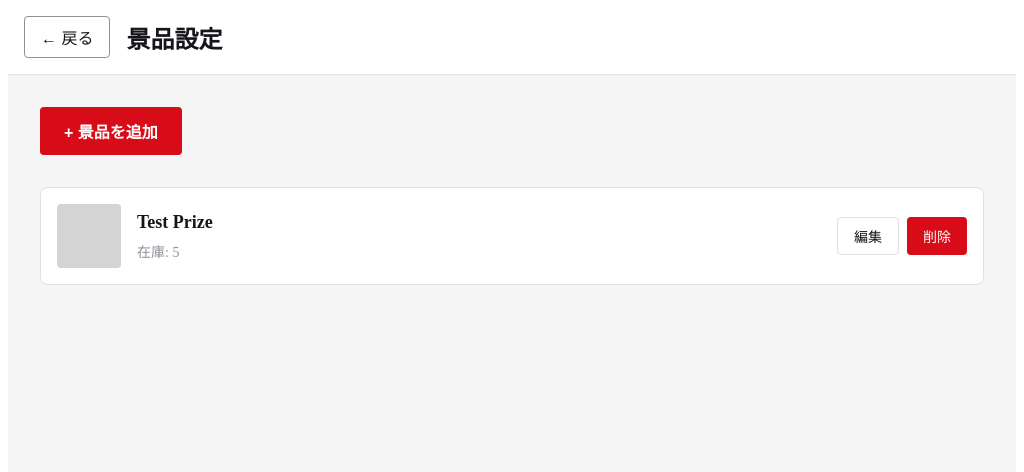
SettingsScreen › 景品削除 › should show confirmation dialog when delete button is clicked
Step 1. Click the button with test id "delete-prize-button-0" → click(937, 236), box [907, 217, 967, 255]
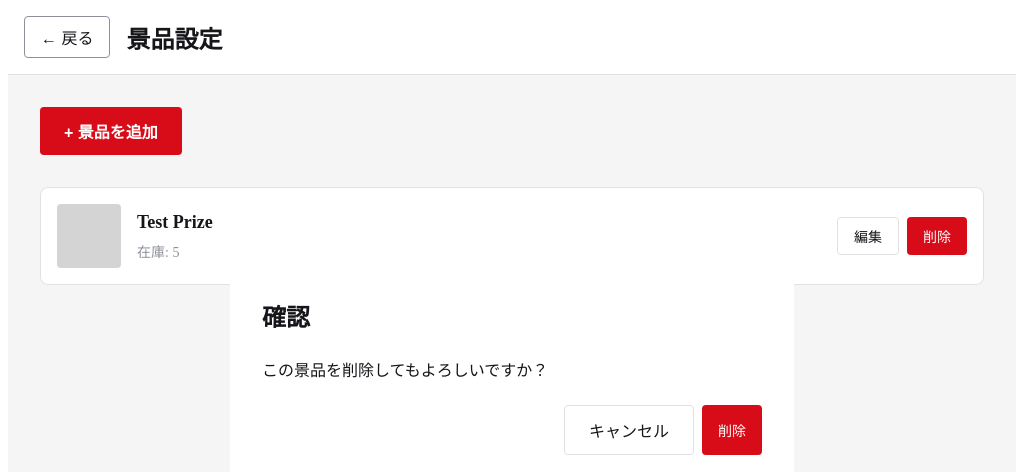
Now the text "この景品を削除してもよろしいですか？" is shown, box [262, 362, 548, 378]
